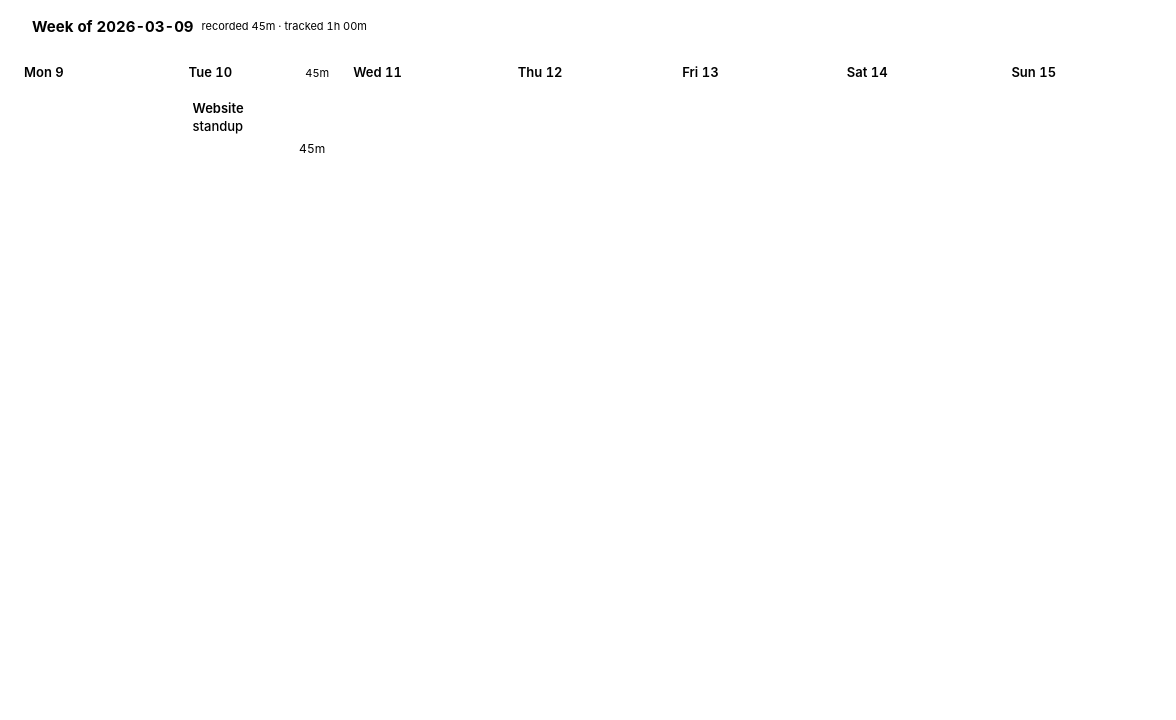
Test: WeekView › dragging a card onto another column › moves its time on that day there and offers Undo
Press the mouse on the button with aria-label "Website: standup": [218, 108] box [184,96,333,160]
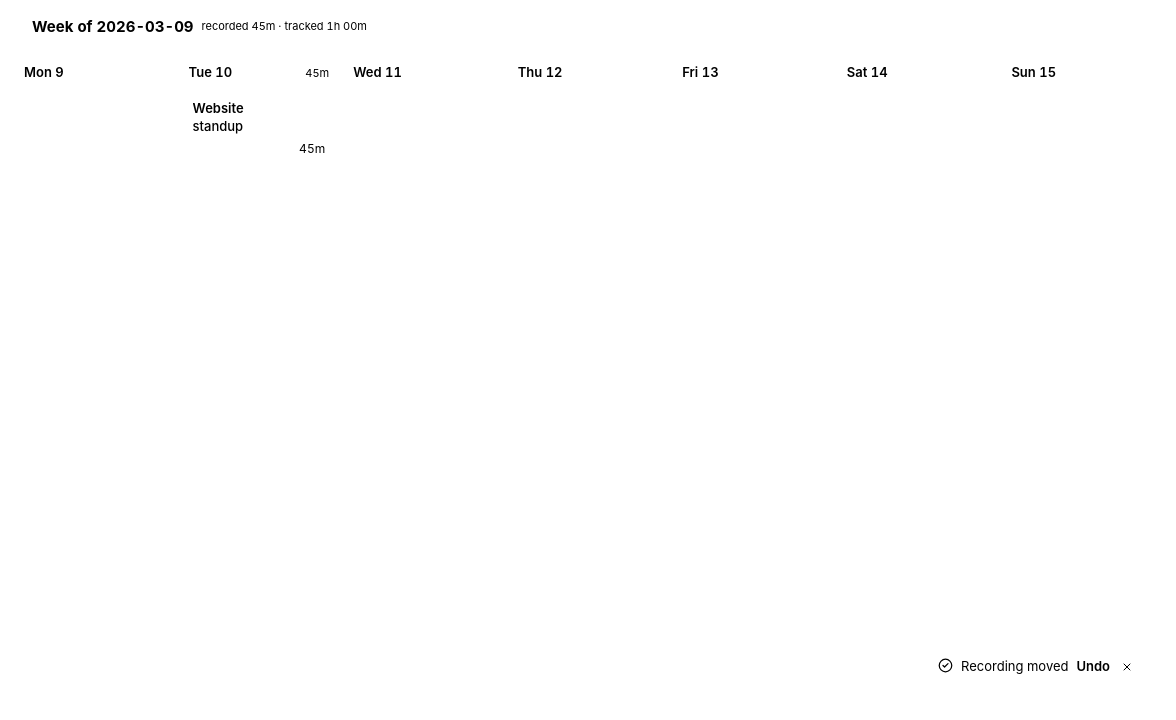
Expected: the text "Recording moved" is shown, [961,658,1068,674]
Expected: the button "Undo" is shown, [1076,658,1110,674]
